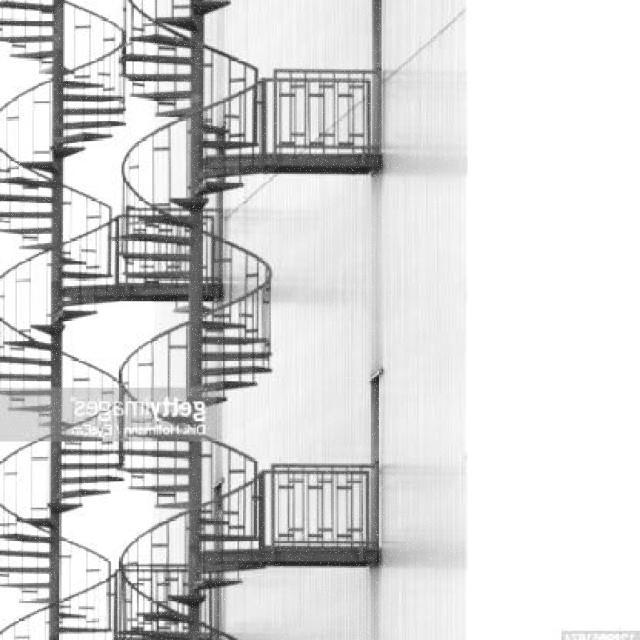stair: (1, 53, 388, 296), (128, 438, 250, 640), (0, 434, 114, 640), (156, 312, 272, 410), (0, 328, 78, 417)
